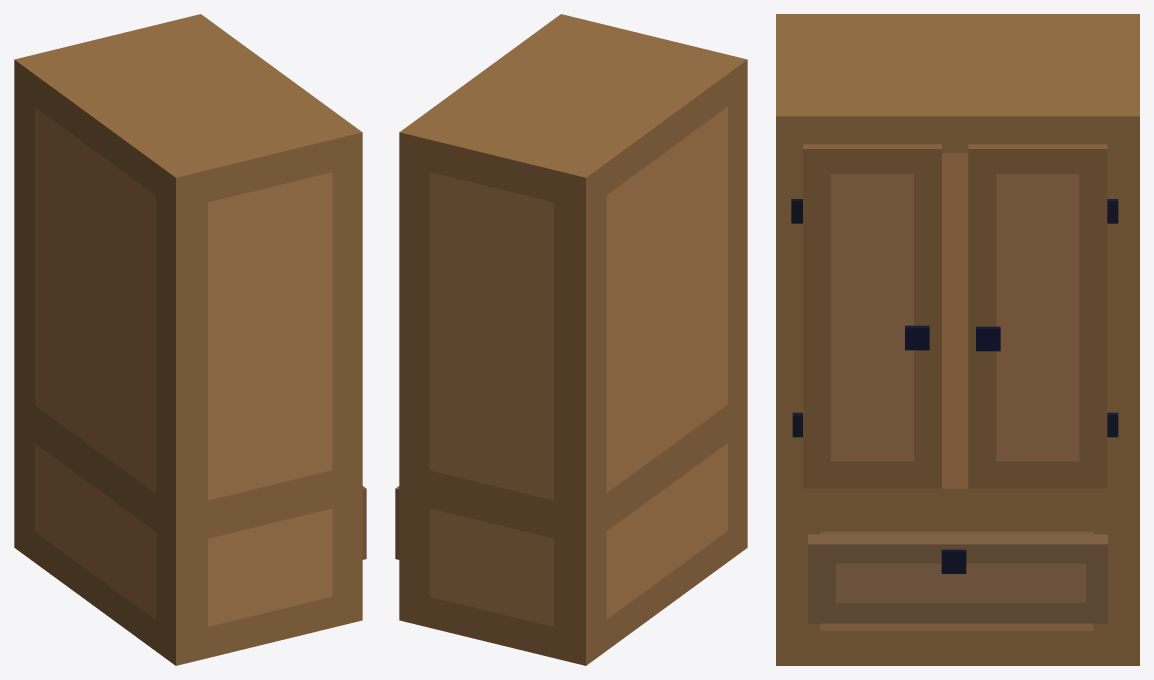
File: шкаф(фикс) (1).fbx
3 renders of one model, left to right at view 1: azimuth 30°, elevation 25°; view 2: azimuth 150°, elevation 25°; view 3: azimuth 270°, elevation 25°, orthographic. The views are drawn at different scales.
Visible parts, largest first — view 1: Cube; view 2: Cube; view 3: Cube, Куб.004, Куб.001, Куб, Куб.005.
Boxes of the visible parts, x1,y1,x2,y2 form: Cube: (14, 14, 362, 665); Cube: (399, 14, 747, 665); Cube: (776, 14, 1139, 665); Куб.004: (968, 144, 1107, 488); Куб.001: (803, 144, 941, 488); Куб: (808, 534, 1107, 623); Куб.005: (941, 549, 966, 573).
Size of the model in its own units: 224 by 500 by 300.
